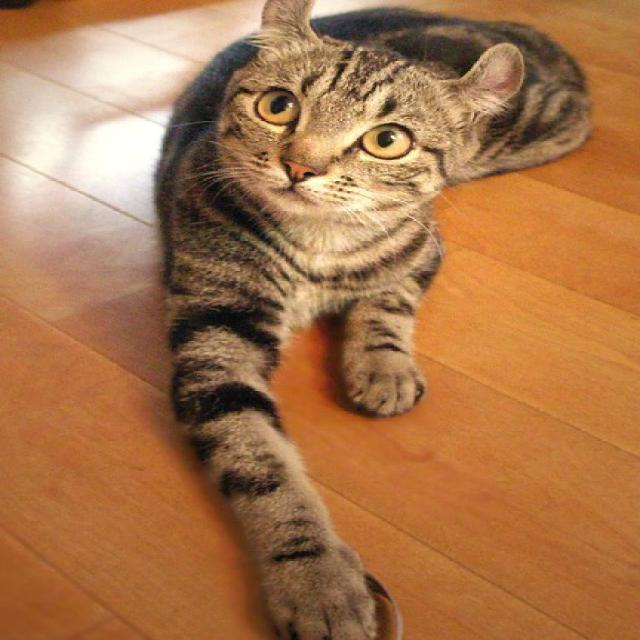American Curl: (142, 0, 599, 640)
